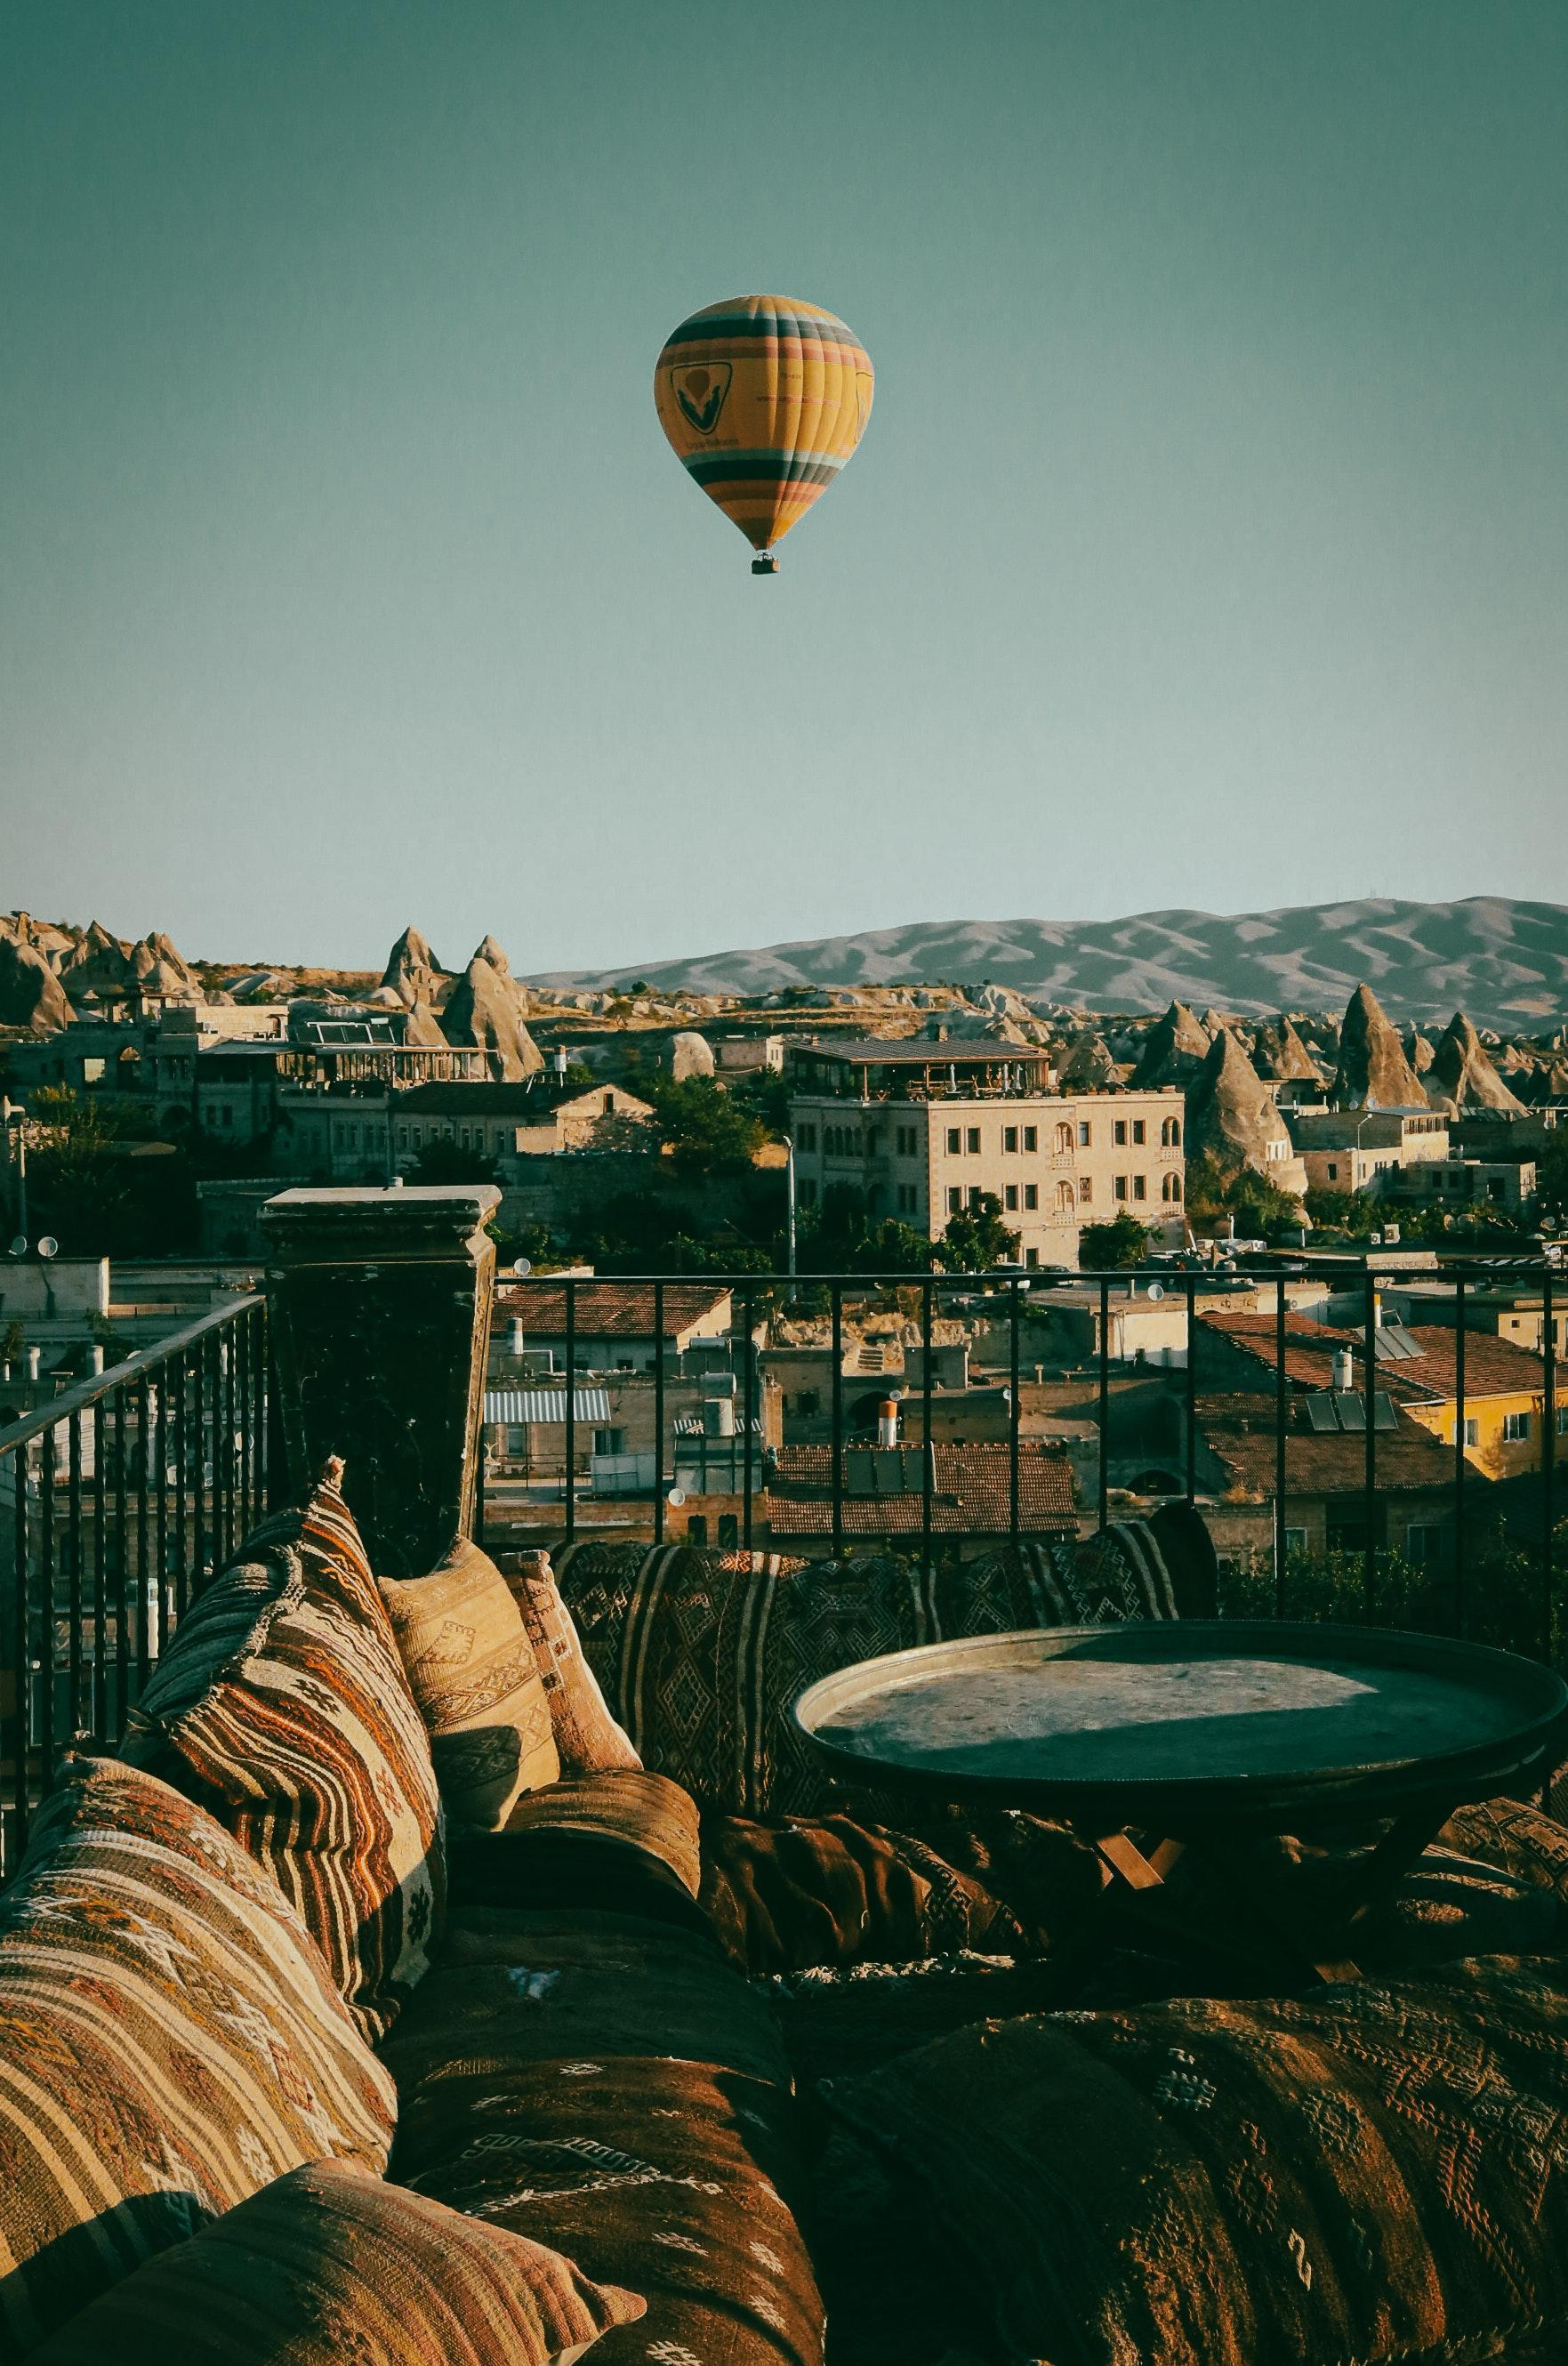hot air ballon: (653, 294, 875, 576)
